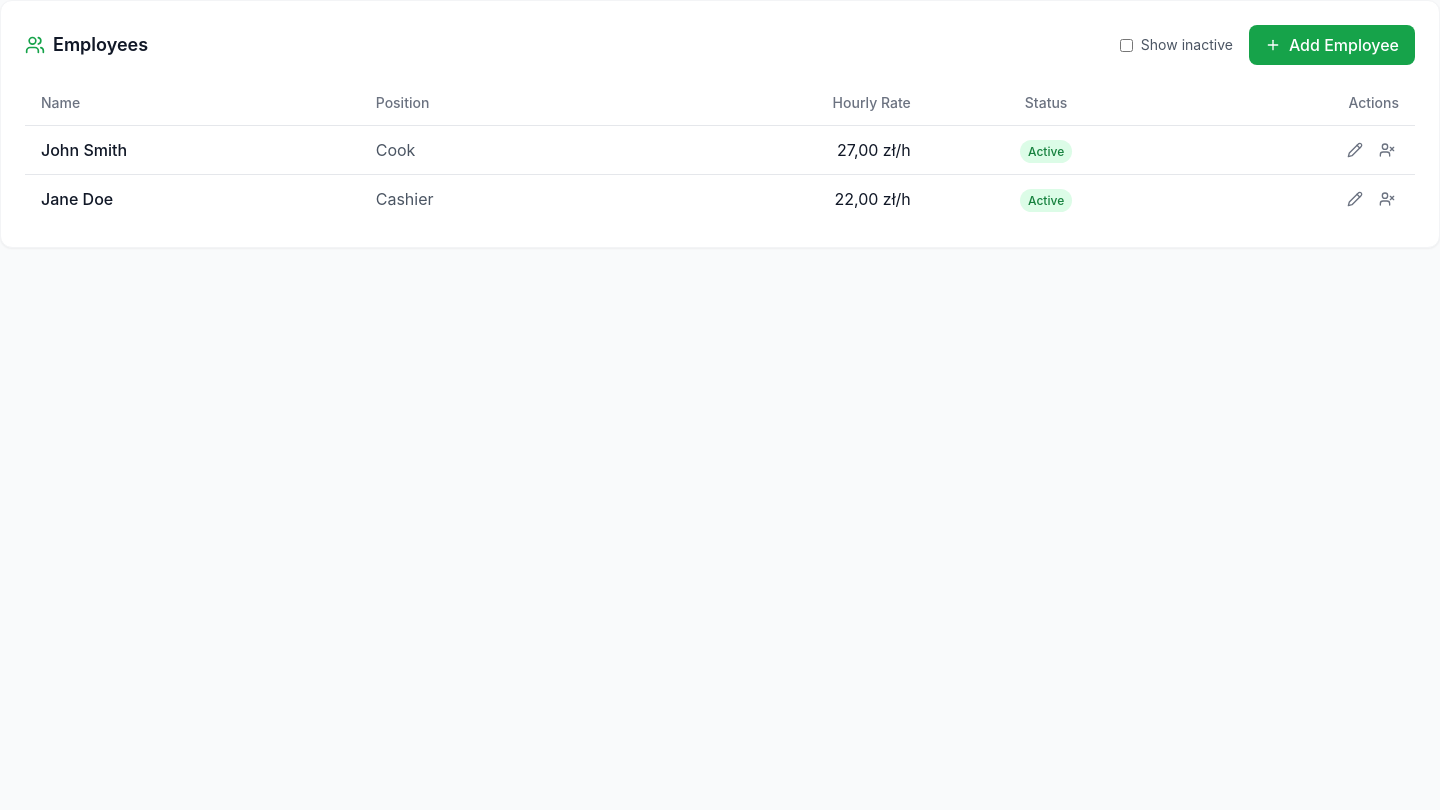
Test: EmployeesSection › Create Employee › shows position rate hint when position is selected
This screenshot has width=1440, height=810.
expect the text "John Smith" is shown: met, box x1=25 y1=126 x2=360 y2=174
Click the button "Add Employee" at coordinates (1332, 45), box x1=1249 y1=25 x2=1415 y2=65
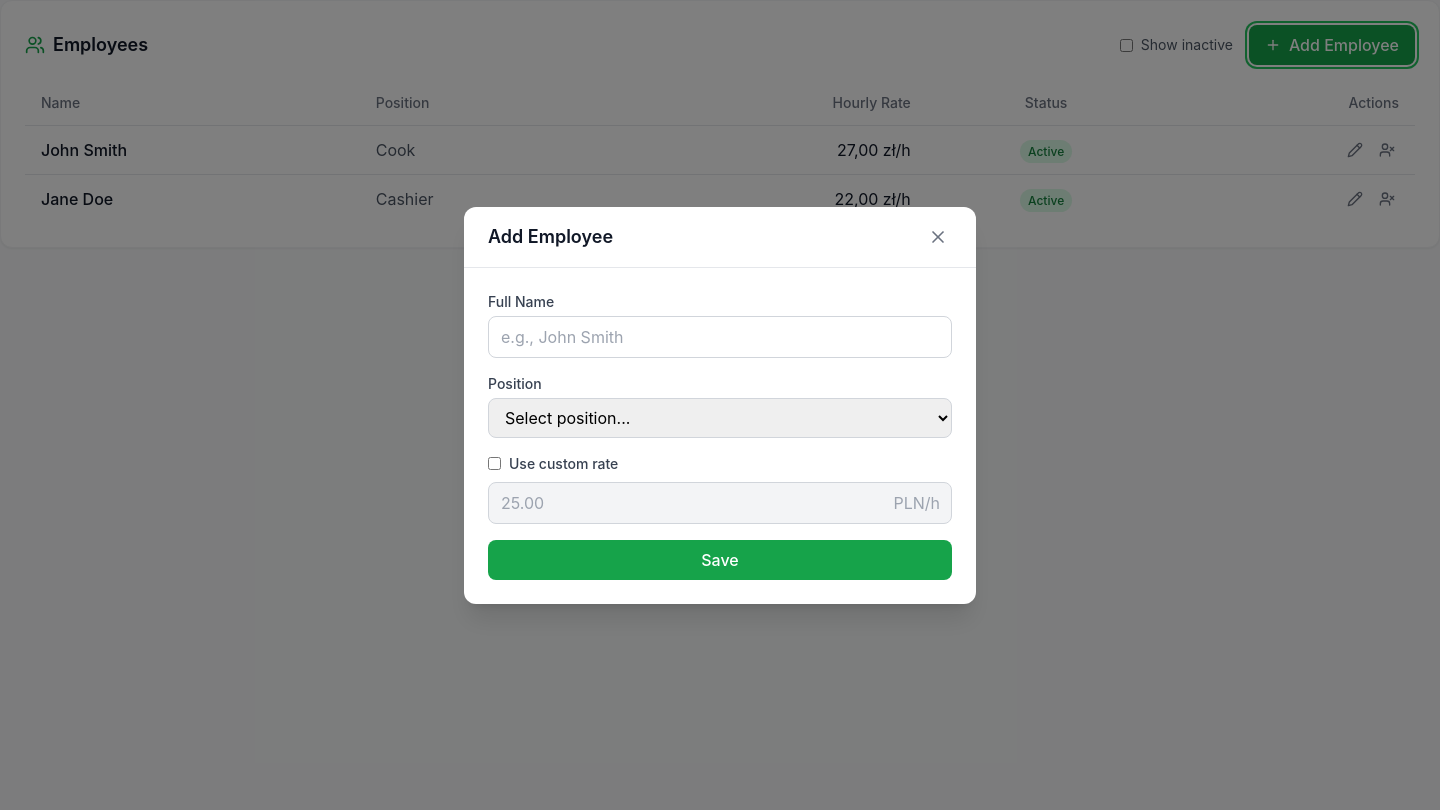
expect the dialog is shown: met
# Select Cashier position (rate: 22.00)
Select "2" in the dropdown at coordinates (720, 418), box x1=488 y1=398 x2=952 y2=438
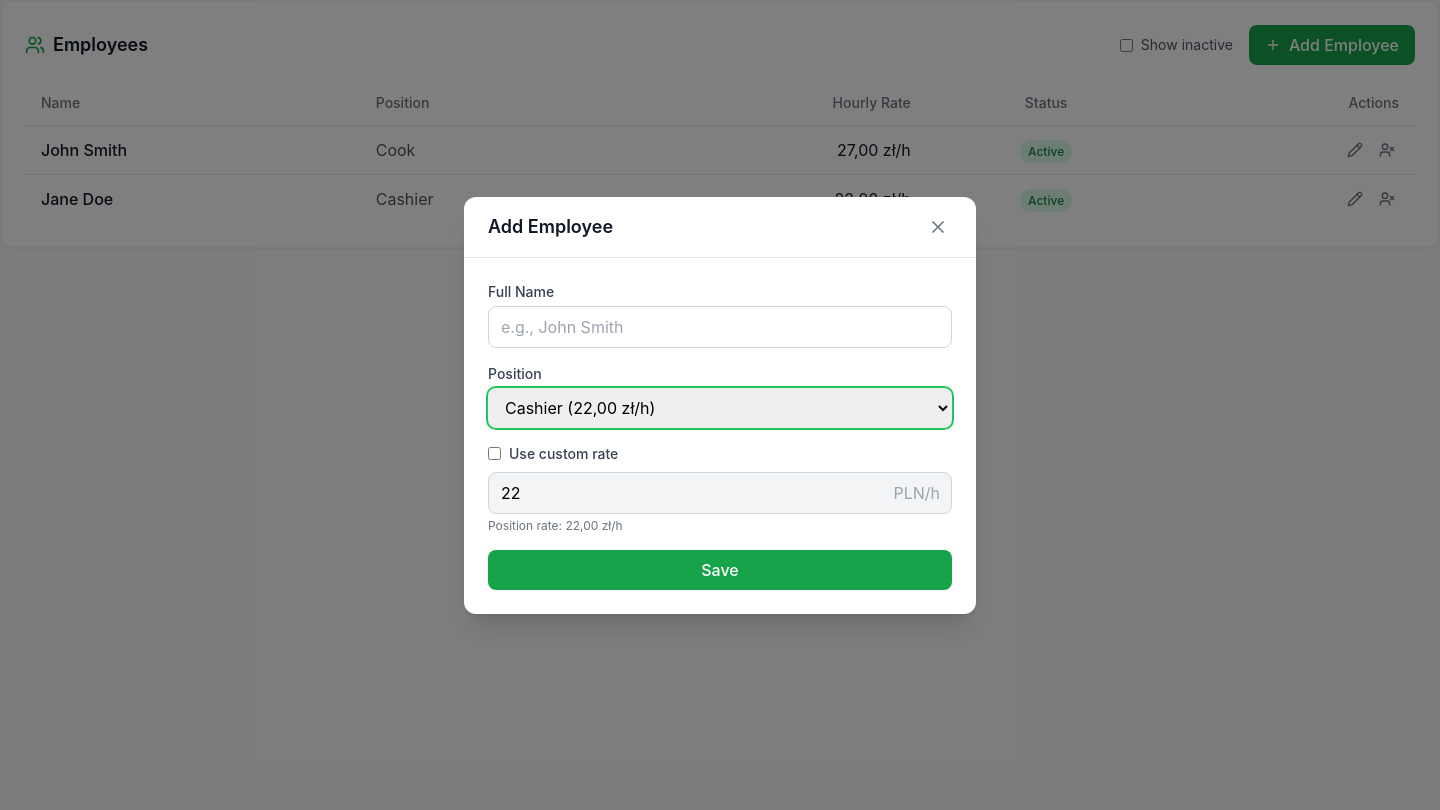
expect the text "Position rate:" is shown: met, box x1=488 y1=518 x2=623 y2=532
